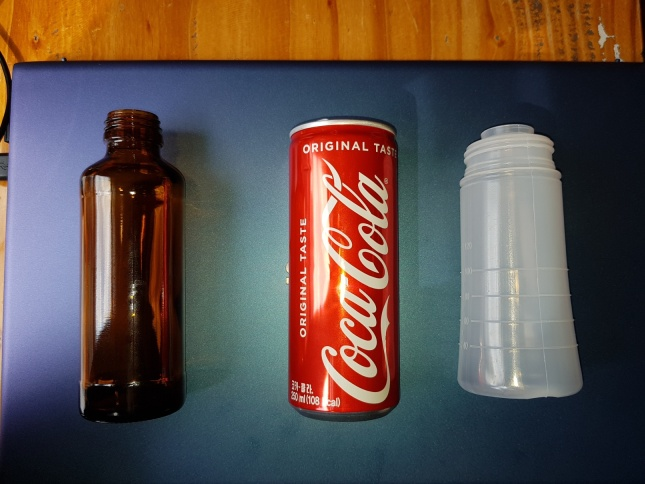Can: (282, 116, 405, 424)
Glass: (73, 106, 190, 425)
Plastic: (451, 114, 587, 404)
